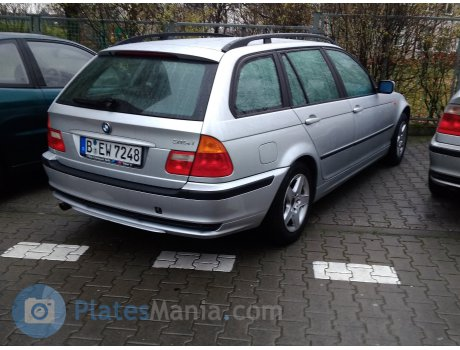License Plates: (77, 135, 145, 160)
